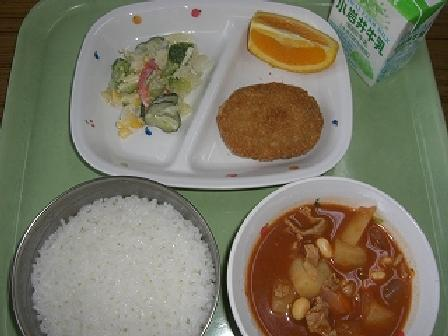Citrus: (240, 0, 340, 85)
Milk: (333, 0, 431, 79)
Rice: (7, 173, 226, 332)
Salad: (98, 25, 209, 133)
Soups: (224, 179, 442, 333)
cutlet: (216, 71, 330, 169)
